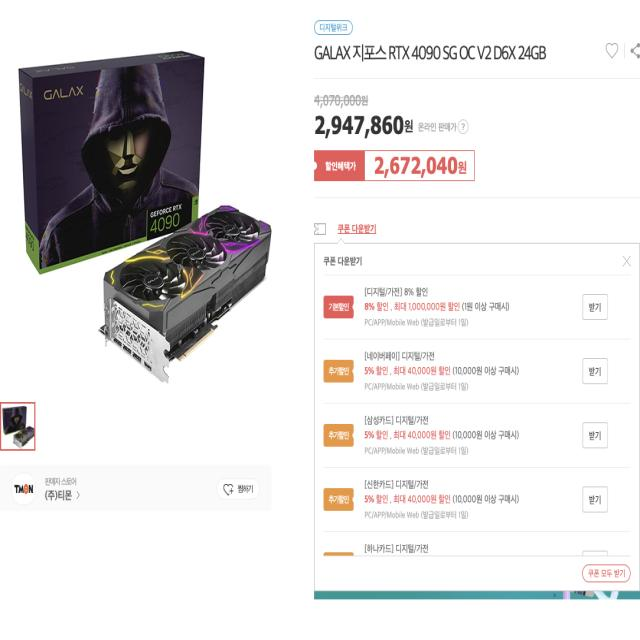product_discount_price: (368, 149, 473, 178)
product_name: (309, 38, 583, 85)
product_original_price: (312, 111, 414, 142)
